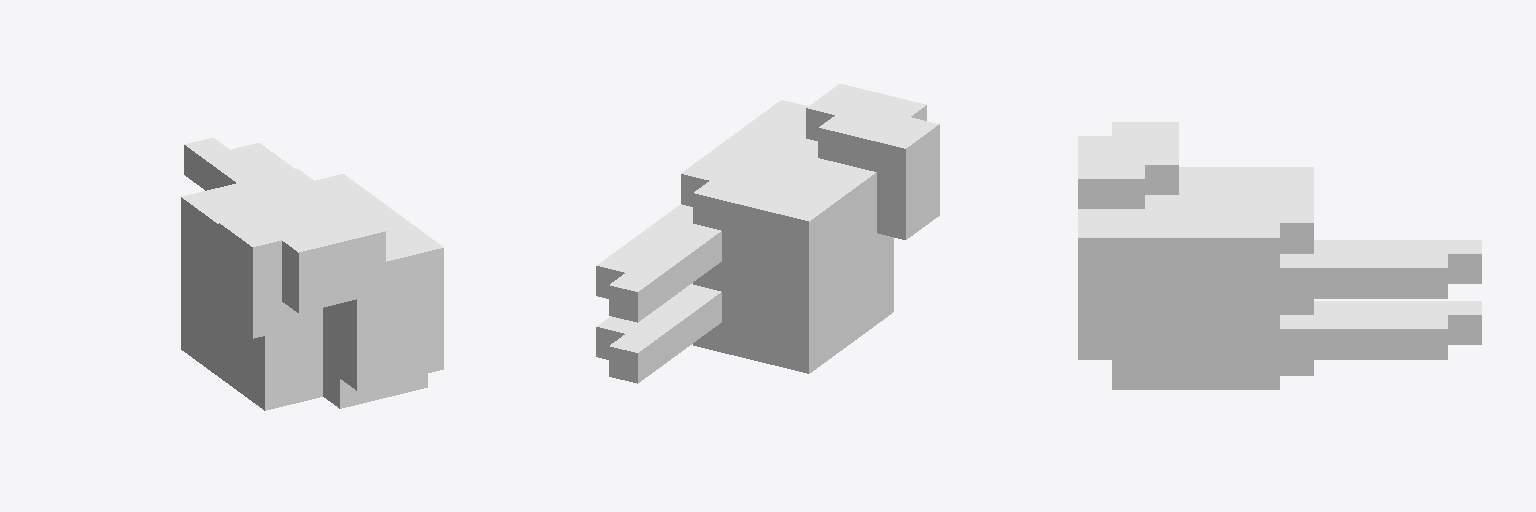
The model's file is claw.vox.obj.
The picture shows the model from 3 angles: view 1: azimuth 30°, elevation 25°; view 2: azimuth 150°, elevation 25°; view 3: azimuth 270°, elevation 25°; orthographic projection.
Visible parts, largest first — view 1: object 1; view 2: object 1; view 3: object 1.
Boxes of the visible parts, box(x1,y1,x2,y2) form: object 1: box(181, 138, 443, 410); object 1: box(596, 84, 939, 383); object 1: box(1078, 122, 1481, 389).
Size of the model in its own units: 0.6 by 0.6 by 1.2.